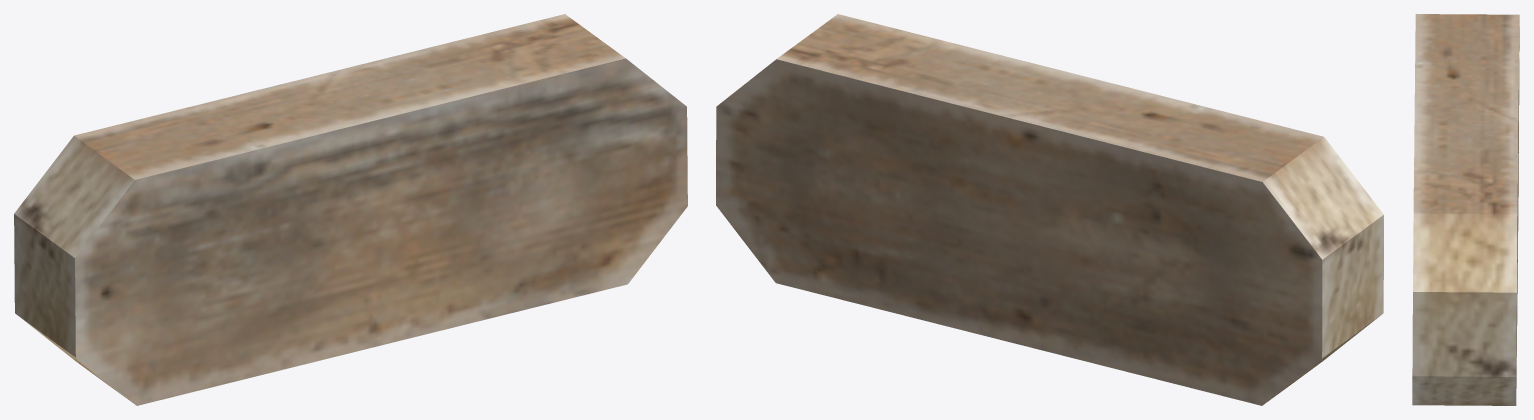
File: Rope Slide Small.fbx
The picture shows the model from 3 angles, left to right: view 1: azimuth 30°, elevation 25°; view 2: azimuth 150°, elevation 25°; view 3: azimuth 270°, elevation 25°; orthographic projection. The views are drawn at different scales.
Visible parts, largest first — view 1: rope block; view 2: rope block; view 3: rope block.
Boxes of the visible parts, bbox=[...] form: rope block: bbox=[14, 14, 687, 405]; rope block: bbox=[716, 14, 1383, 405]; rope block: bbox=[1412, 14, 1519, 405].
Bounding box in the file's own units: 32.21 × 5.78 × 11.54.
Materials: 1 (1 with a texture image).
